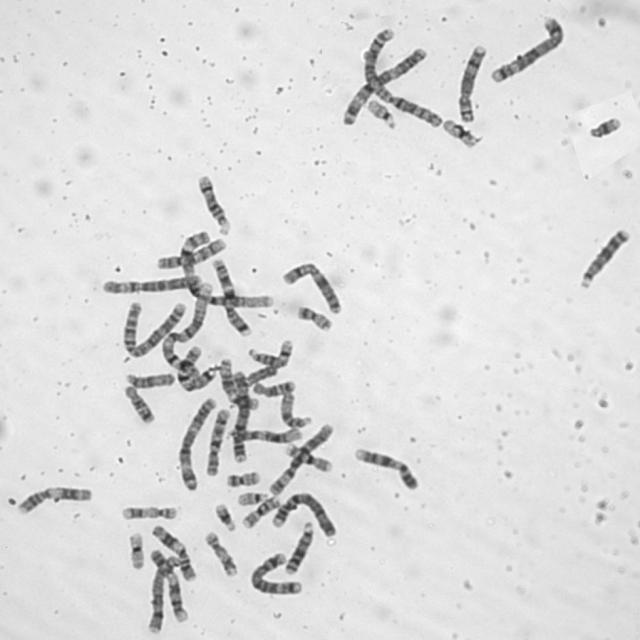A1: (158, 274, 212, 378), (182, 271, 275, 310)
A2: (359, 24, 444, 130), (119, 297, 191, 360)
A3: (338, 45, 428, 127), (174, 393, 218, 492)
B4: (268, 489, 338, 539), (232, 368, 252, 462)
B5: (486, 12, 568, 86), (248, 550, 303, 596)
C10: (153, 234, 229, 272), (202, 404, 231, 478)
C11: (148, 522, 197, 582), (14, 482, 92, 516)
C12: (216, 354, 260, 412), (225, 424, 304, 444)
C6: (266, 420, 335, 496), (98, 270, 206, 296)
C7: (208, 255, 253, 338), (174, 344, 217, 393)
C8: (143, 554, 182, 635), (454, 42, 488, 125)
C9: (352, 443, 420, 493), (148, 548, 192, 624)
D13: (576, 225, 631, 290), (282, 519, 316, 576)
D14: (194, 171, 232, 236), (244, 336, 294, 372)
D15: (277, 388, 314, 430), (122, 369, 176, 389)
E16: (282, 440, 334, 474), (238, 493, 282, 530)
E17: (203, 528, 239, 578), (120, 502, 180, 521)
E18: (122, 382, 156, 425), (250, 376, 298, 398)
F19: (440, 115, 481, 149), (126, 529, 147, 571)
F20: (293, 302, 334, 333), (224, 467, 261, 489)
G21: (586, 113, 623, 139), (213, 500, 238, 532)
G22: (365, 96, 398, 130), (235, 489, 270, 507)
X: (279, 259, 344, 316)
